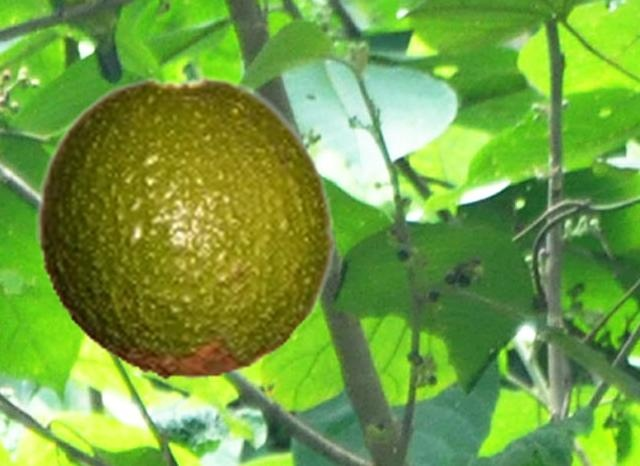avocado: (35, 75, 337, 380)
